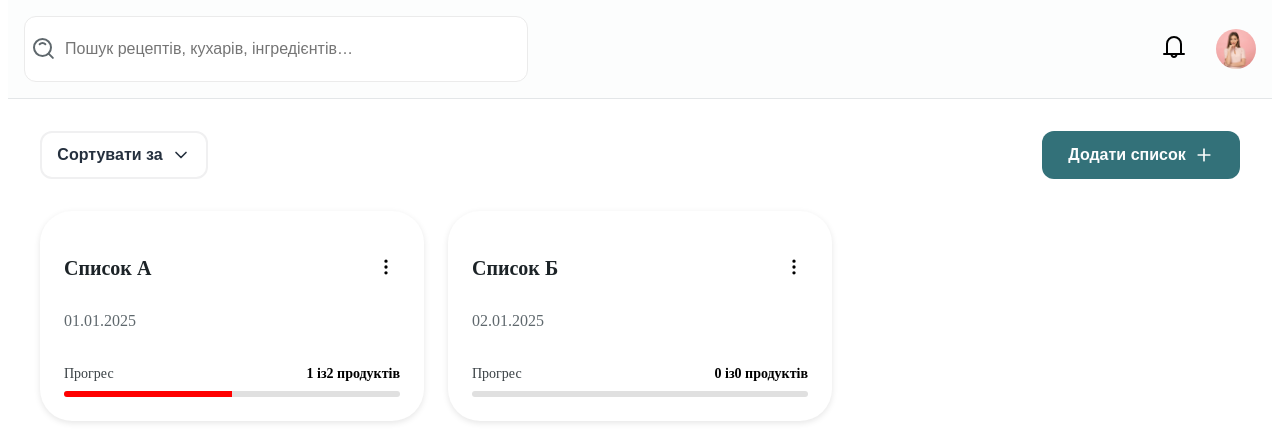
Test: ShoppingListPage › удаление списка через меню
# Берем первую кнопку меню по классу
Click the button without text in the row of "Список А" at x=386, y=268, box [372,253,400,284]
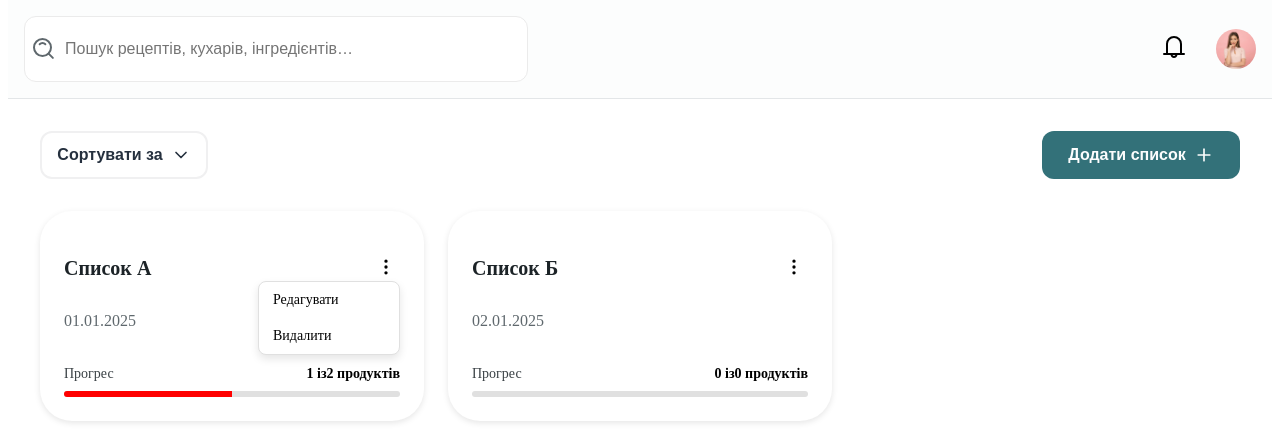
Click the text "Видалити" at x=302, y=336, box [273,328,331,343]
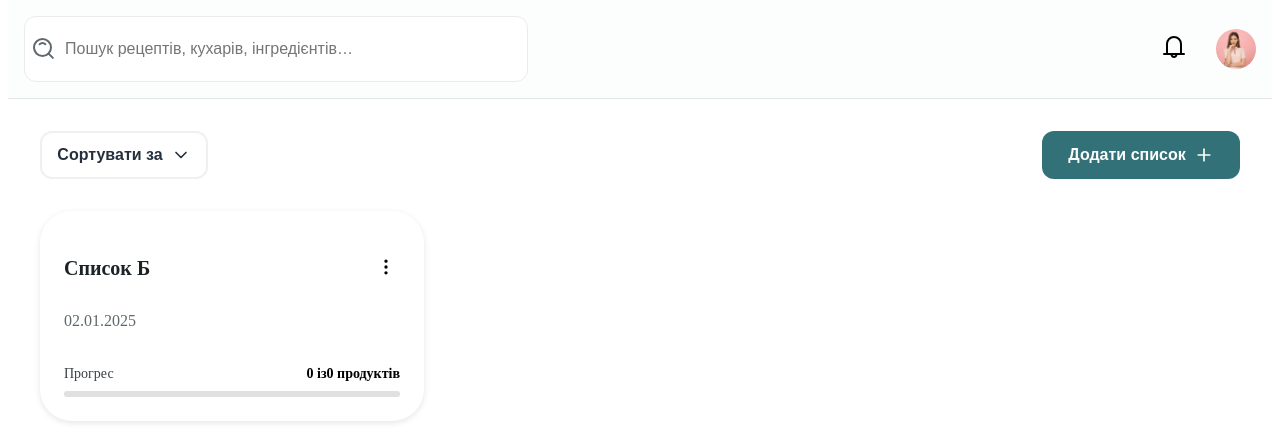
Expected: the heading "Список А" is gone
